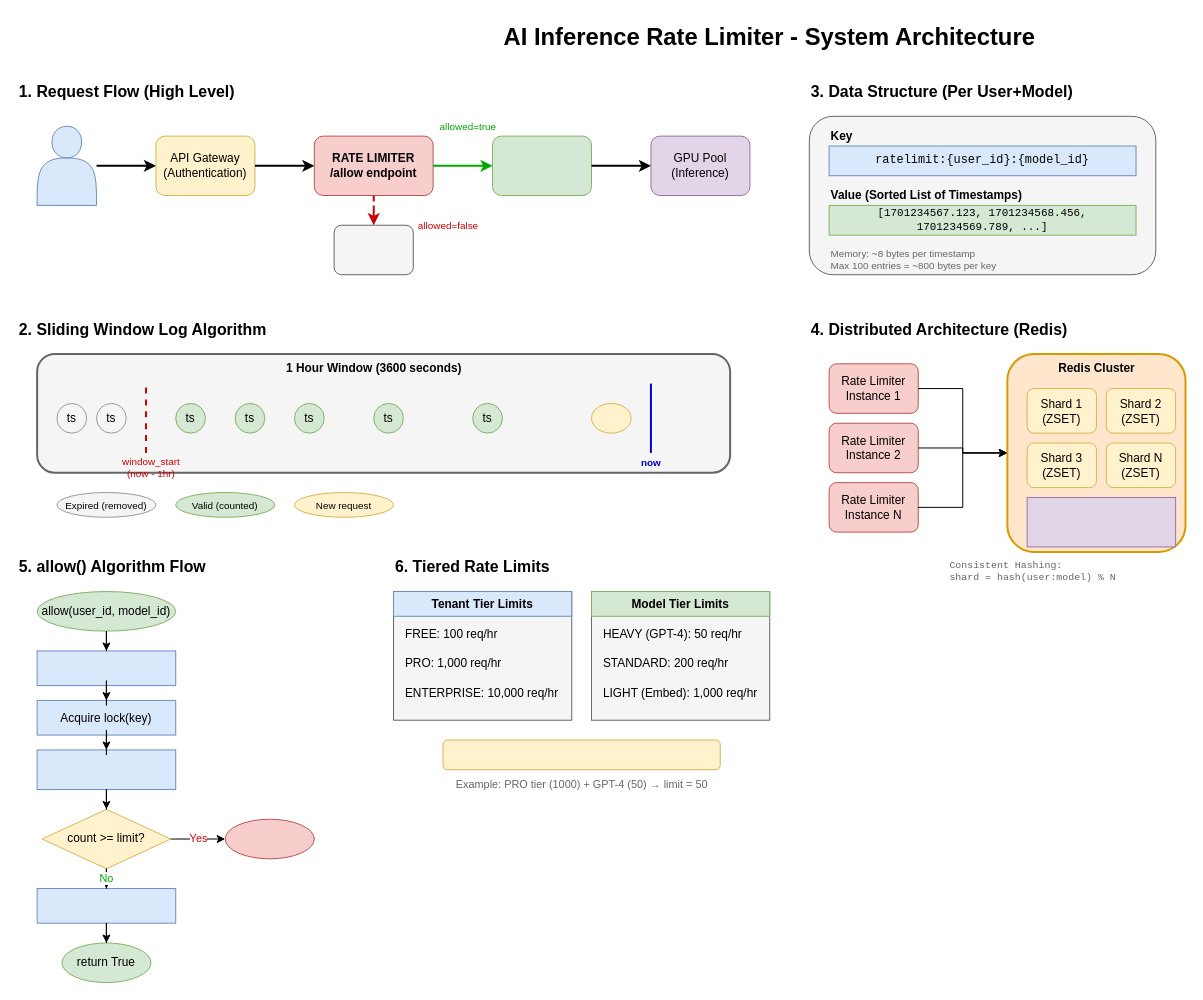
Image size: 1203x1000. Some labels were removed from this diagram. The centre of each missing label's shape, as x and y in pixels:
"429 Too Many Requests" belongs at point 373,249.
"Add current timestamp" belongs at point 106,905.
"Client Application" belongs at point 66,165.
"Effective Limit = min(tenant_limit, model_limit)" belongs at point 581,754.
"key = user_id:model_id" belongs at point 106,668.
"Lua Script (Atomic) ZREMRANGEBYSCORE ZCARD → check limit ZADD → add timestamp" belongs at point 1101,521.
"Model Router (Load Balancer)" belongs at point 542,165.
"NEW" belongs at point 611,417.
"Remove timestamps < (now - window)" belongs at point 106,769.
"return False" belongs at point 269,838.
